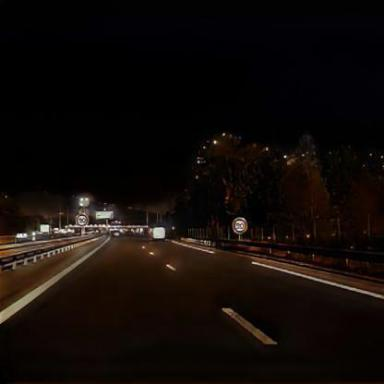Speed_limit_90: (235, 218, 249, 233), (77, 215, 89, 226)
